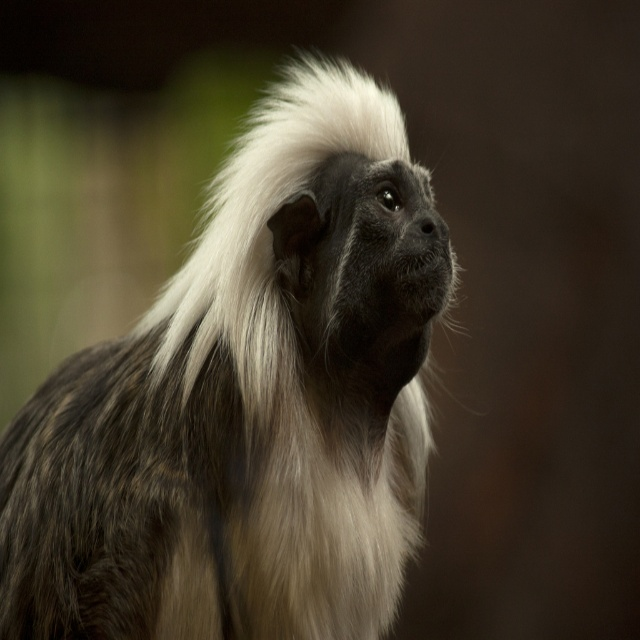Monkey: (0, 43, 491, 639)
